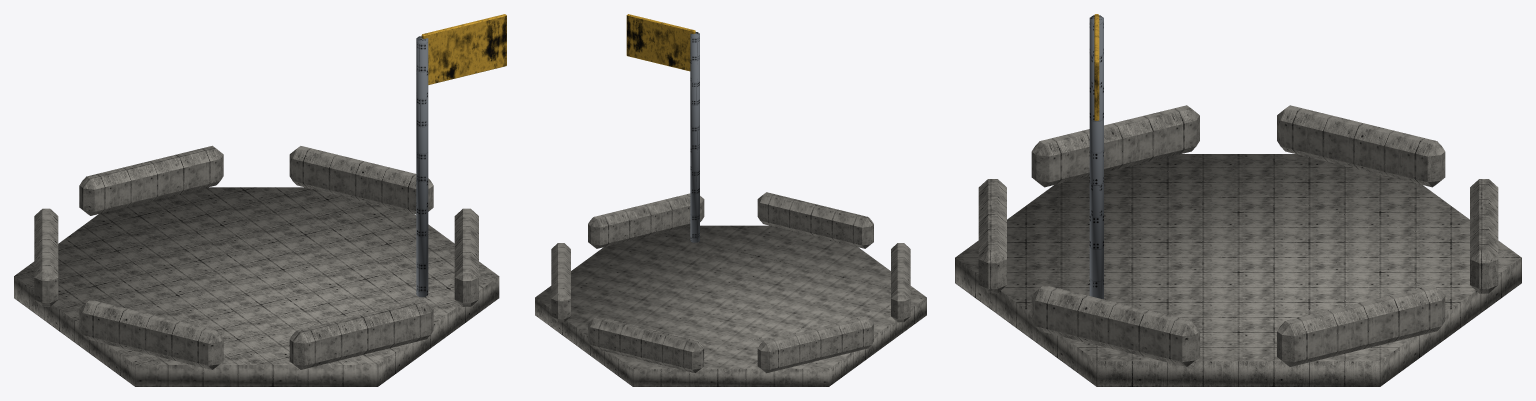
File: outpost.gltf
3 renders of one model, left to right at view 1: azimuth 30°, elevation 25°; view 2: azimuth 150°, elevation 25°; view 3: azimuth 270°, elevation 25°, orthographic. The views are drawn at different scales.
Parts seen in each view (by area): view 1: platform, barrier1, barrier3, barrier4, barrier0, flagm, mast, barrier2, barrier5; view 2: platform, barrier1, barrier2, barrier4, barrier5, flagm, mast, barrier0, barrier3; view 3: platform, barrier2, barrier0, barrier5, barrier3, mast, barrier1, barrier4, flagm.
Part boxes in pixels (x1,y1,x2,y2): platform: [14, 187, 499, 386]; barrier1: [79, 145, 223, 215]; barrier3: [79, 299, 223, 369]; barrier4: [289, 299, 433, 369]; barrier0: [289, 146, 433, 214]; flagm: [421, 14, 506, 84]; mast: [416, 36, 428, 297]; barrier2: [34, 208, 58, 306]; barrier5: [454, 208, 478, 306]; platform: [535, 225, 926, 386]; barrier1: [588, 316, 704, 373]; barrier2: [757, 316, 873, 373]; barrier4: [757, 192, 873, 248]; barrier5: [588, 193, 704, 248]; flagm: [626, 14, 695, 71]; mast: [690, 32, 699, 242]; barrier0: [551, 243, 570, 322]; barrier3: [891, 243, 910, 322]; platform: [955, 154, 1521, 386]; barrier2: [1277, 105, 1445, 187]; barrier0: [1277, 285, 1445, 366]; barrier5: [1031, 285, 1199, 366]; barrier3: [1031, 105, 1199, 187]; mast: [1089, 15, 1103, 299]; barrier1: [1470, 179, 1498, 293]; barrier4: [978, 179, 1006, 293]; flagm: [1094, 14, 1099, 120].
Bounding box in the file's own units: 113 × 77 × 120.
3 materials, 3 textured.
